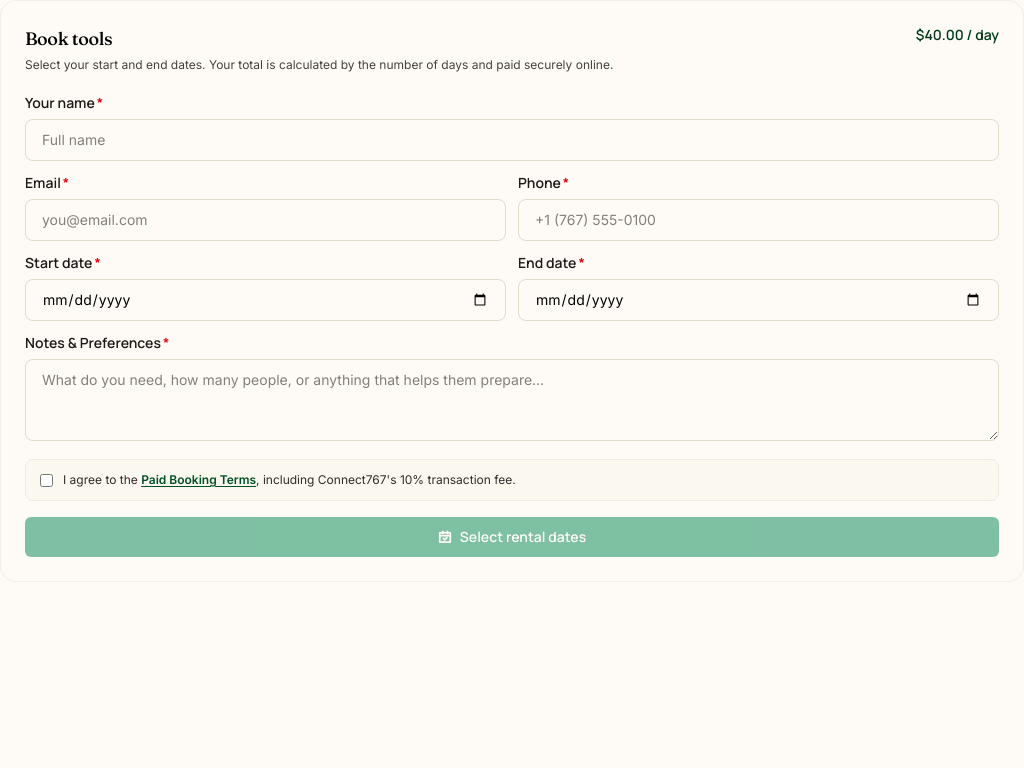
Test: BookingForm › uses a daily rate for equipment rentals
The image size is (1024, 768).
Expected: the text "$40.00 / day" is shown, [916,25,999,45]
Type "2030-06-10" into the date field labelled "Start date*".
click(266, 300); type("2030-06-10")  # box [25,279,506,321]
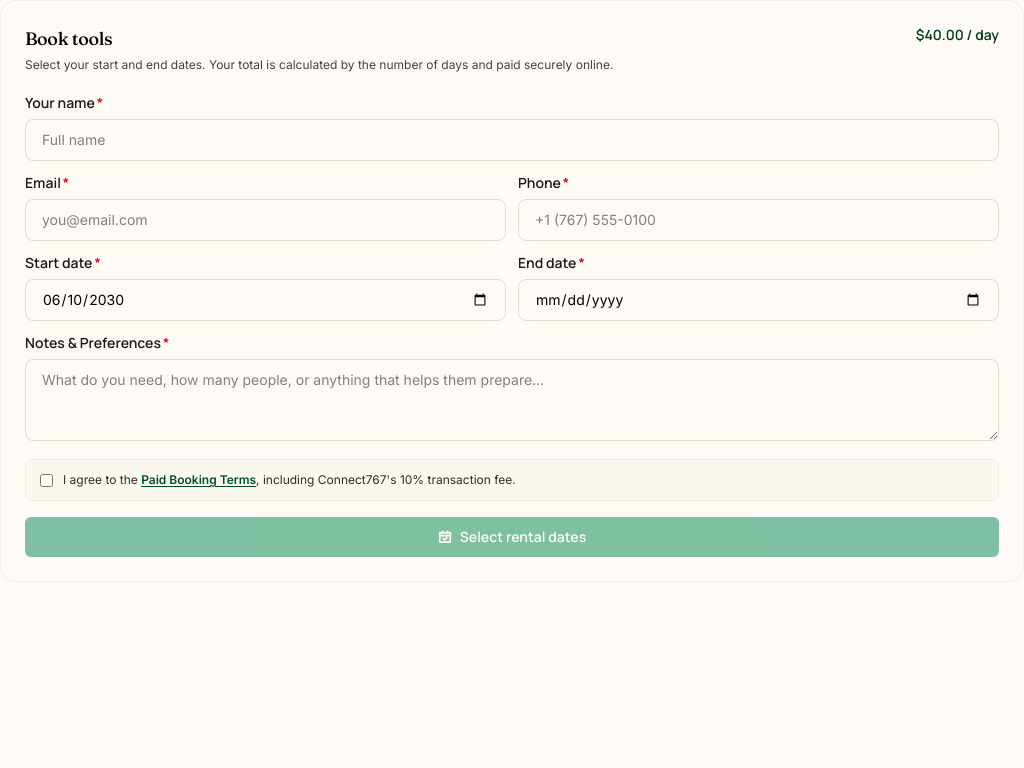
Type "2030-06-13" into the date field labelled "End date*".
click(758, 300); type("2030-06-13")  # box [518,279,999,321]
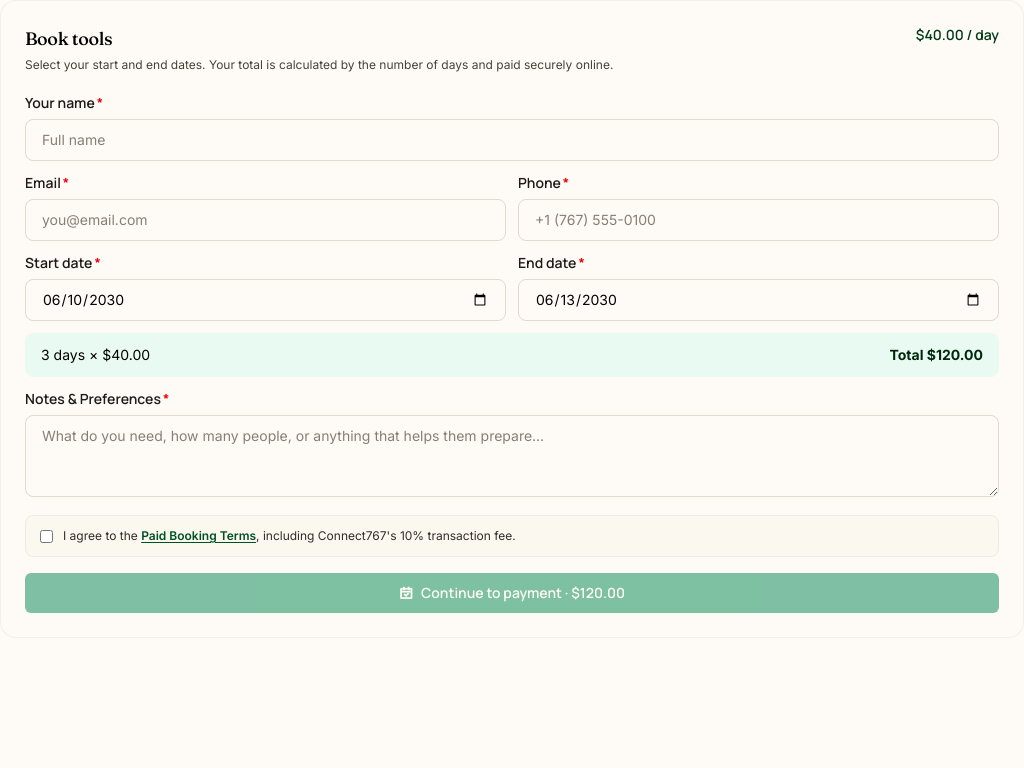
Expected: the text "3 days × $40.00" is shown, [41,345,150,365]
Expected: the text "Total $120.00" is shown, [890,345,983,365]
